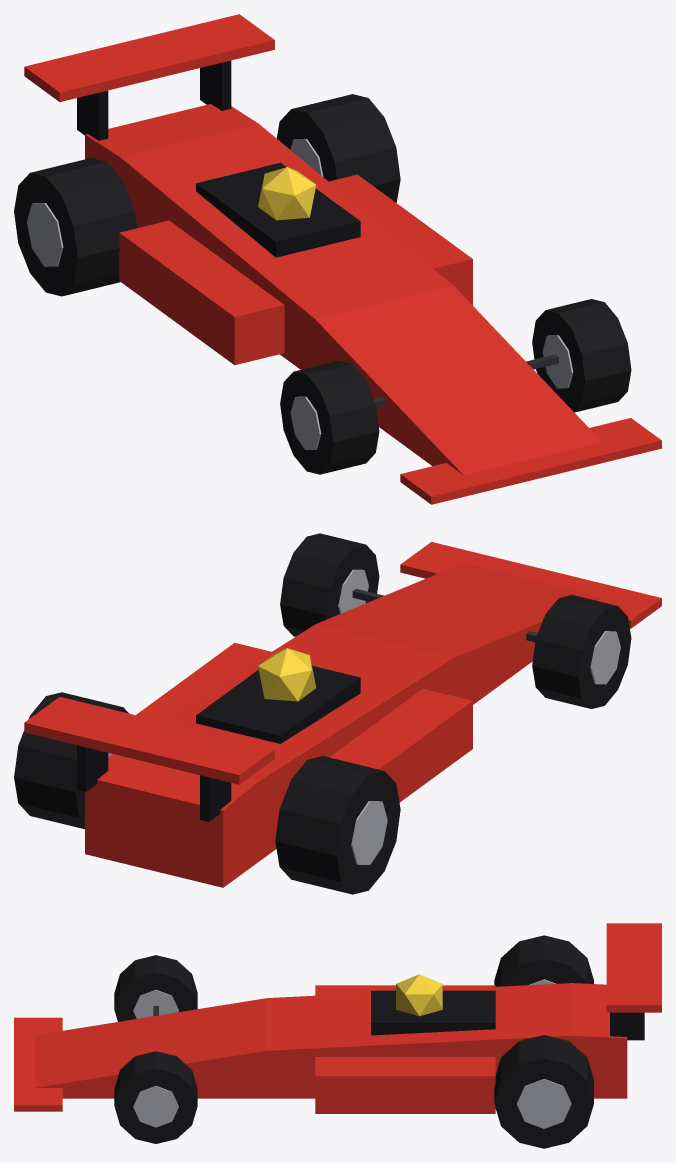
Rendered from race_car.glb.
The picture shows the model from 3 angles, top to bottom: view 1: azimuth 30°, elevation 25°; view 2: azimuth 150°, elevation 25°; view 3: azimuth 270°, elevation 25°; orthographic projection. The views are drawn at different scales.
Parts seen in each view (by area): view 1: race_car; view 2: race_car; view 3: race_car.
Boxes of the visible parts, <box> form: race_car: <box>14,14,661,504</box>; race_car: <box>14,533,661,894</box>; race_car: <box>14,923,661,1148</box>.
Bounding box in the file's own units: 2.12 × 0.98 × 4.67.
